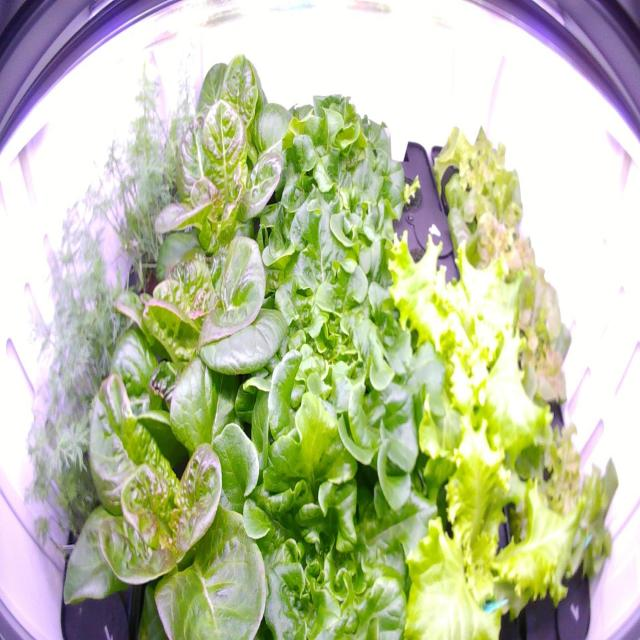Ready: (55, 352, 301, 640), (79, 195, 310, 461), (149, 90, 303, 304), (166, 36, 304, 202)
